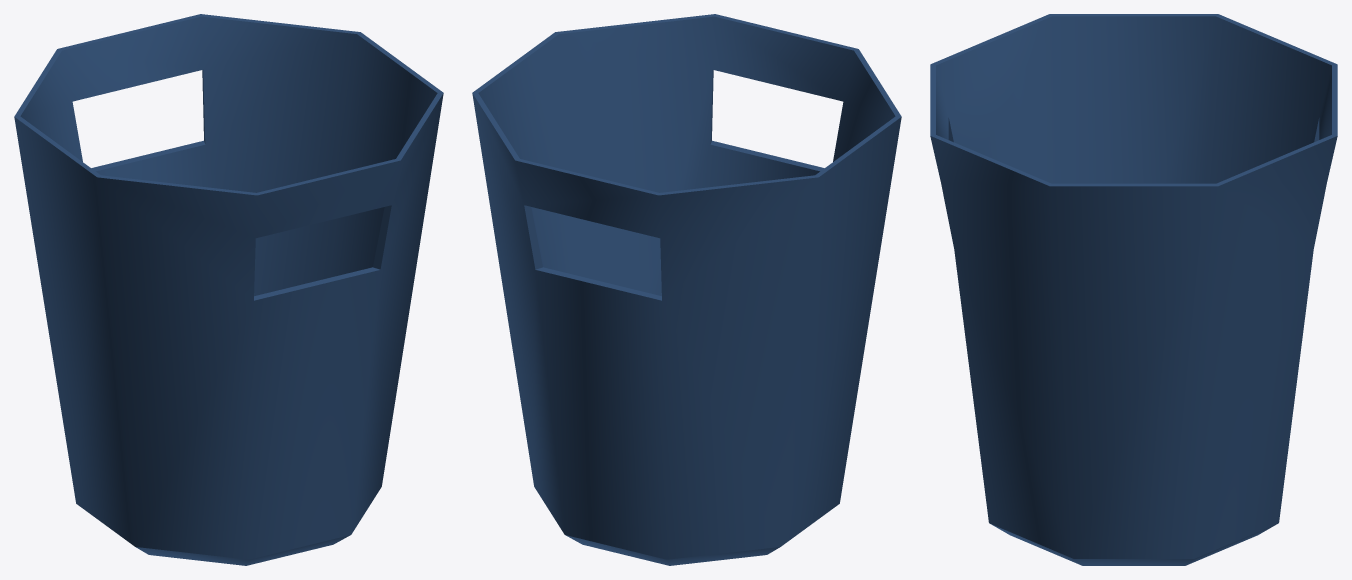
File: trashcan.FBX
3 views of the same model, side by side, from view 1: azimuth 30°, elevation 25°; view 2: azimuth 150°, elevation 25°; view 3: azimuth 270°, elevation 25° (orthographic).
Visible parts, largest first — view 1: trashcan; view 2: trashcan; view 3: trashcan.
Boxes of the visible parts, x1,y1,x2,y2 form: trashcan: (14, 14, 443, 565); trashcan: (472, 14, 901, 565); trashcan: (930, 14, 1337, 565).
Size of the model in its own units: 28.04 by 31.39 by 28.04.
